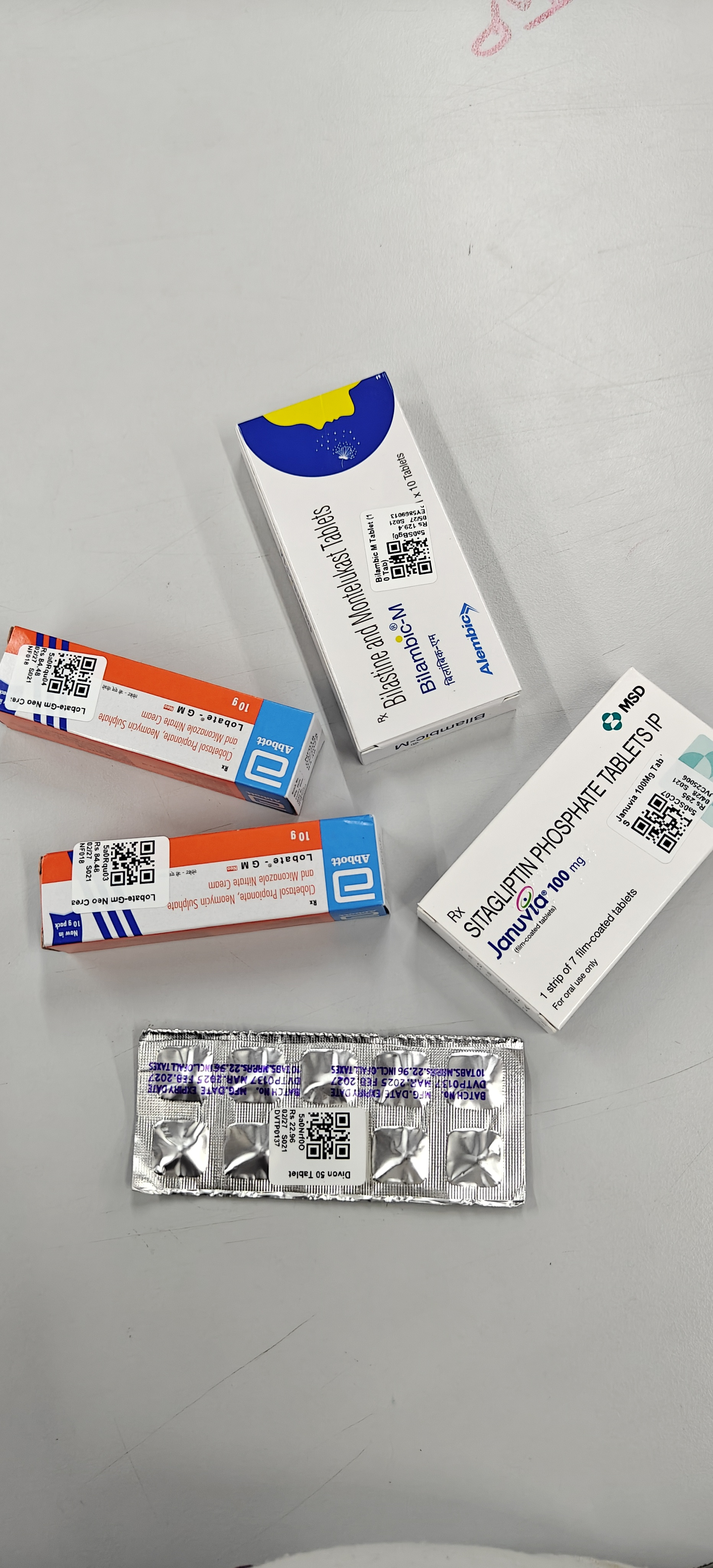qr_code: (630, 792, 694, 854), (46, 652, 97, 697), (306, 1112, 350, 1159), (111, 840, 155, 886), (386, 536, 432, 579)
